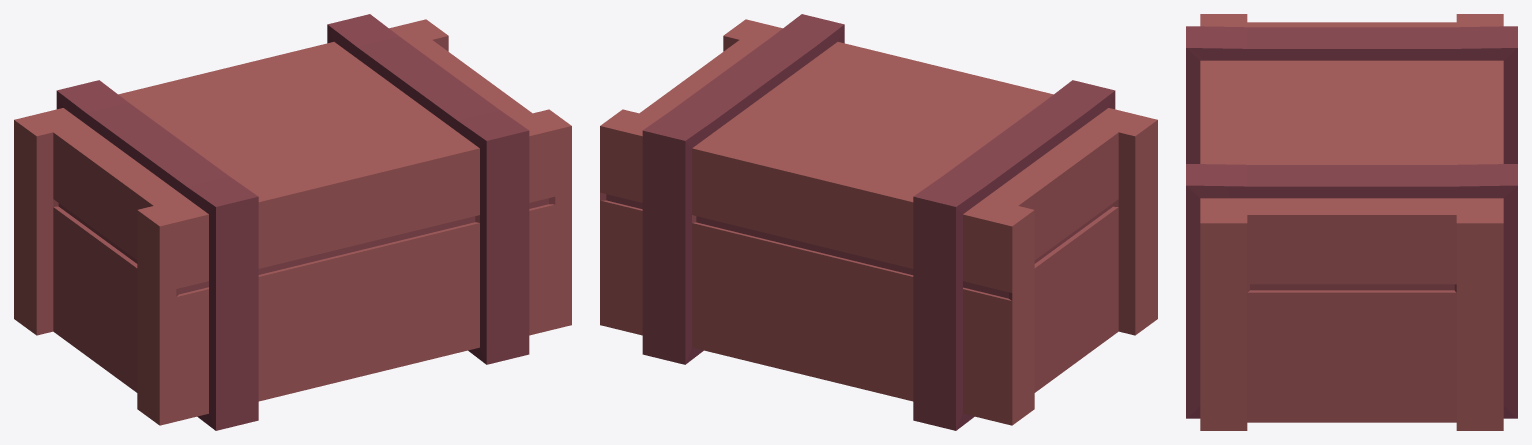
The model's file is storage.fbx.
3 views of the same model, side by side, from view 1: azimuth 30°, elevation 25°; view 2: azimuth 150°, elevation 25°; view 3: azimuth 270°, elevation 25° (orthographic). The views are drawn at different scales.
Visible parts, largest first — view 1: storage; view 2: storage; view 3: storage.
Part boxes in pixels (left/top/right/bottom): storage: left=14, top=14, right=571, bottom=430; storage: left=600, top=14, right=1157, bottom=430; storage: left=1186, top=14, right=1517, bottom=430.
Size of the model in its own units: 66.66 by 34.62 by 44.62.
